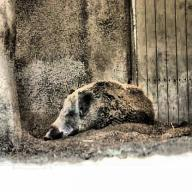boar: (46, 64, 182, 151)
